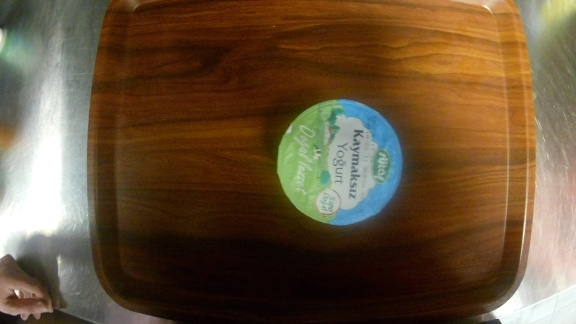yogurt: (270, 95, 408, 230)
